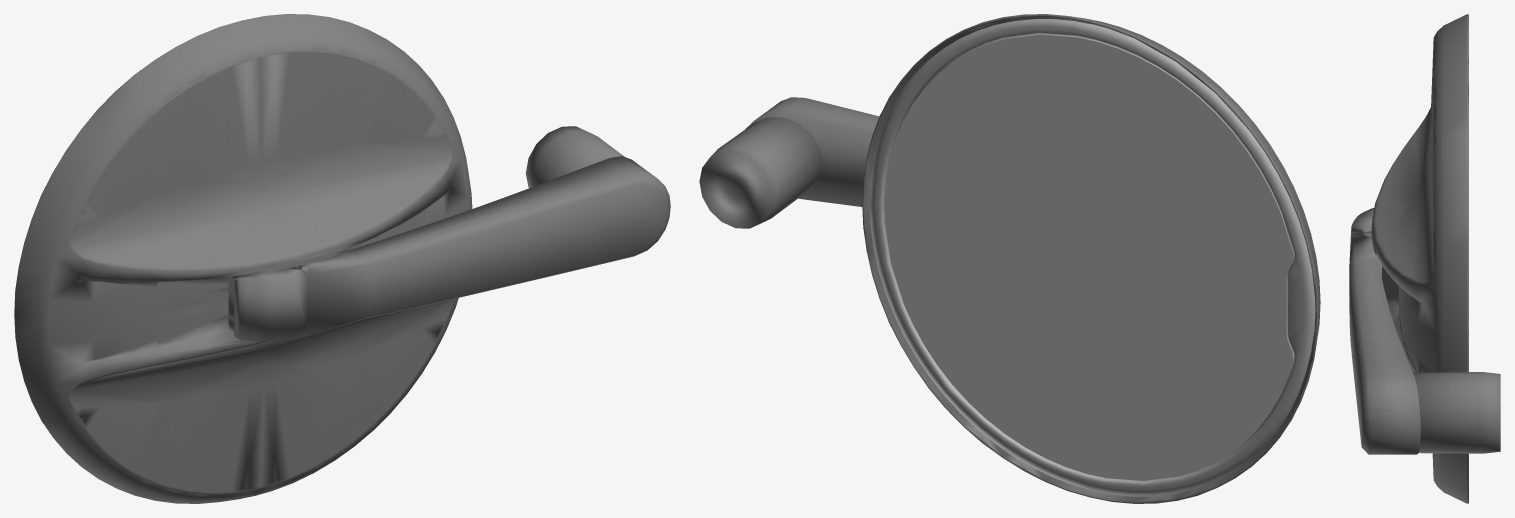
The model's file is DL_50_Midi.obj.
3 views of the same model, side by side, from view 1: azimuth 30°, elevation 25°; view 2: azimuth 150°, elevation 25°; view 3: azimuth 270°, elevation 25° (orthographic). The views are drawn at different scales.
Parts seen in each view (by area): view 1: Siteco_DL_50_Midi; view 2: Siteco_DL_50_Midi; view 3: Siteco_DL_50_Midi.
Part boxes in pixels (left/top/right/bottom): Siteco_DL_50_Midi: left=14, top=14, right=670, bottom=503; Siteco_DL_50_Midi: left=699, top=14, right=1320, bottom=503; Siteco_DL_50_Midi: left=1349, top=14, right=1500, bottom=503.
Bounding box in the file's own units: 0.8407 × 0.6346 × 0.1955.
